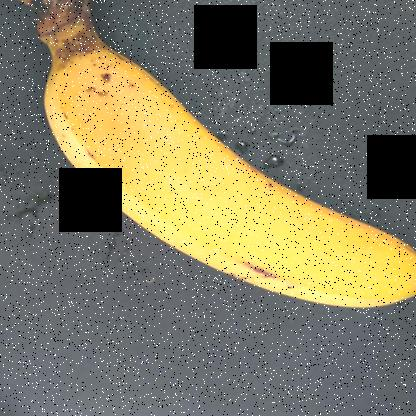freshripe: (40, 42, 415, 310)
